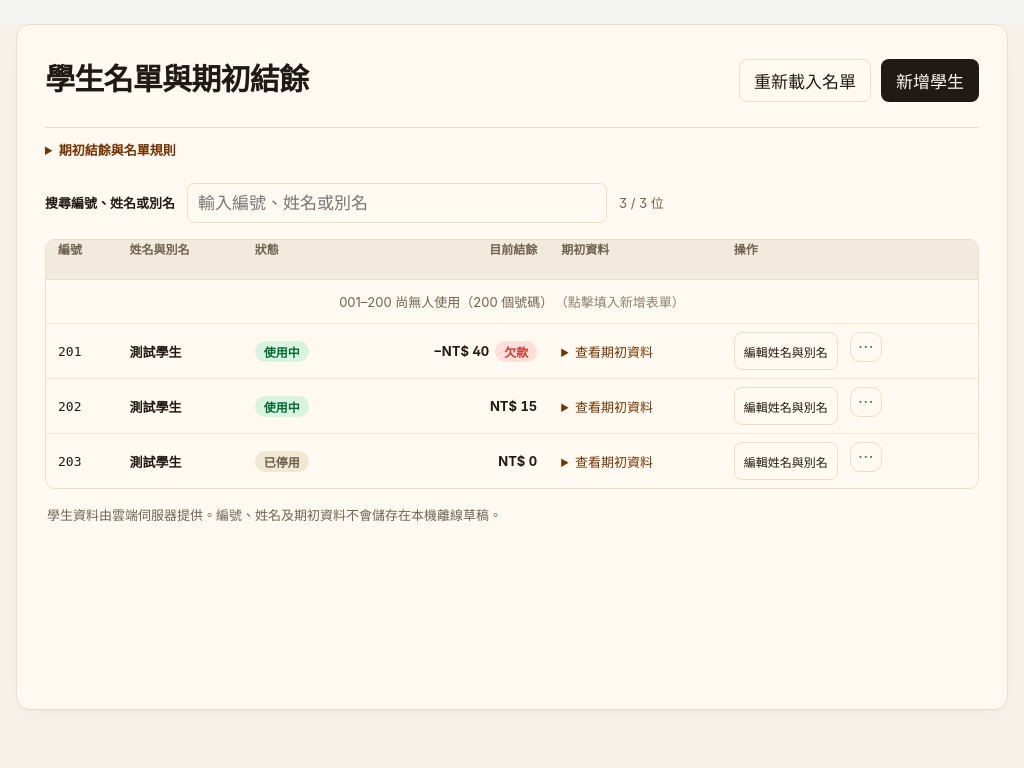
CloudStudentsPage › marks negative account balances as debts but leaves positive and zero balances normal
Check: the row with test id "cloud-student-row-201" shows "−NT$ 40", box [434,343,489,359]
Click the heading "查看期初資料" in the row of "201" at (614, 352), box [575,344,653,360]
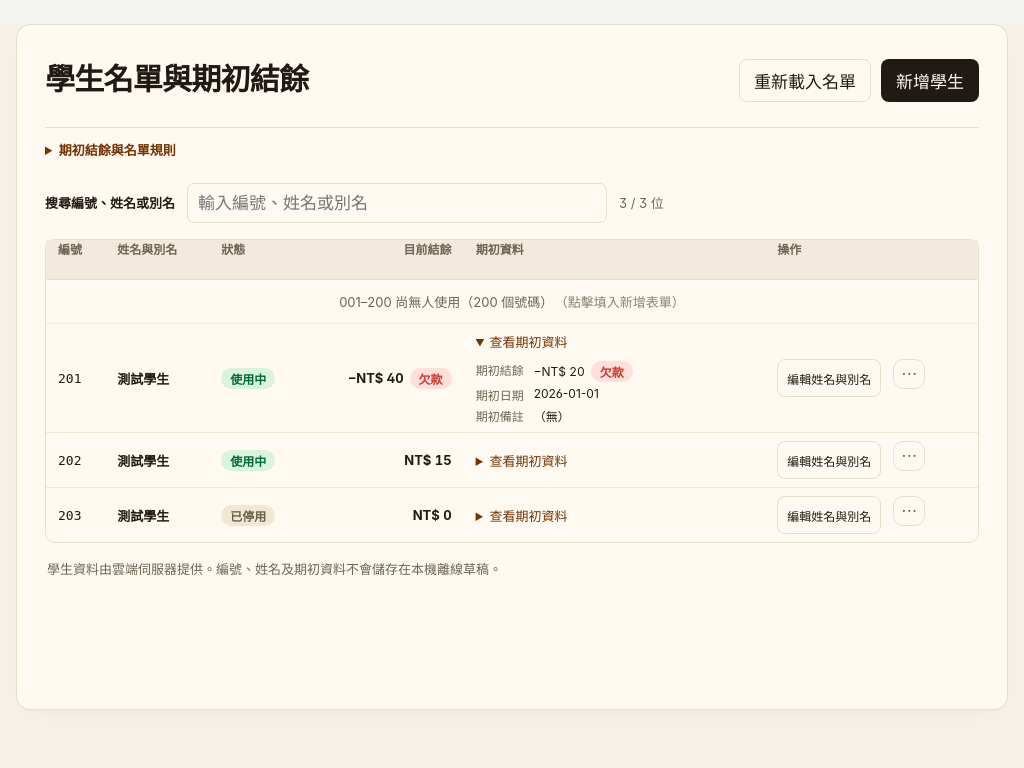
Check: the row with test id "cloud-student-row-202" shows "NT$ 15", box [404,452,452,468]
Check: the row with test id "cloud-student-row-201" shows "−NT$ 20", box [534,364,585,379]
Check: the text "欠款" is shown 2 times, box [410,368,452,389]; [591,361,633,382]
